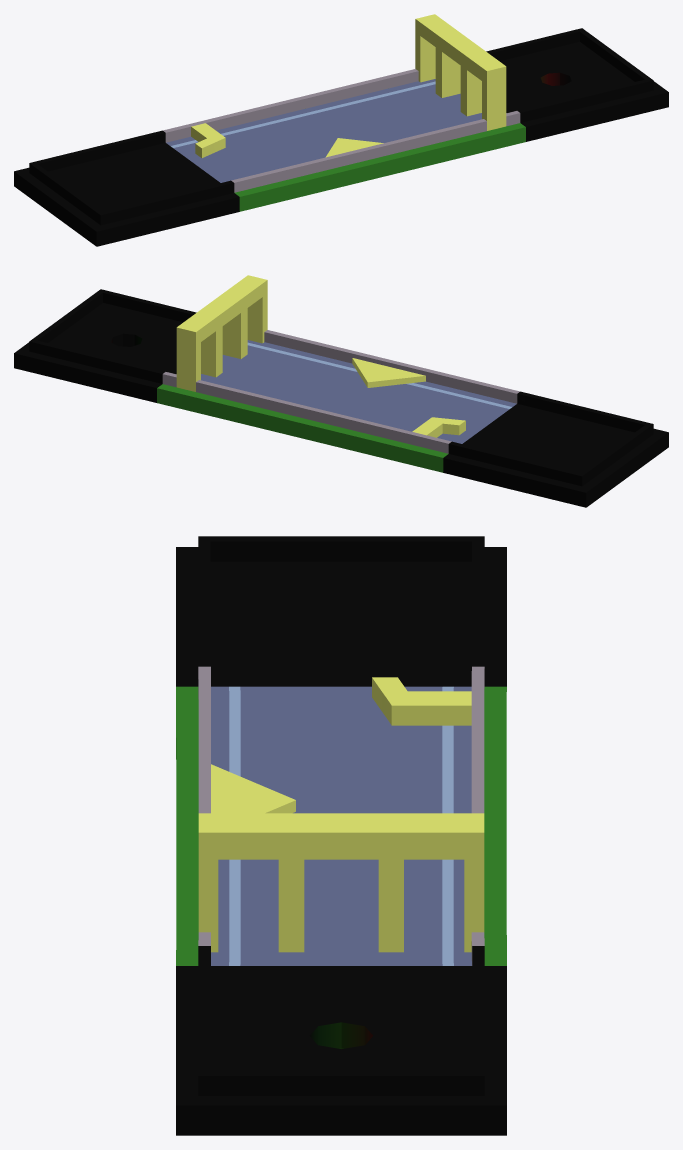
The model's file is Pista1Facil.fbx.
3 renders of one model, top to bottom at view 1: azimuth 30°, elevation 25°; view 2: azimuth 150°, elevation 25°; view 3: azimuth 270°, elevation 25°, orthographic. The views are drawn at different scales.
Visible parts, largest first — view 1: Box024.001, Box024.002, Box027, Box022, Object001; view 2: Box024.001, Box024.002, Box027, Object001, Box022; view 3: Box024.001, Box024.002, Box027, Box022, Object001.
Part boxes in pixels (x1,y1,x2,y2): Box024.001: (14,41,668,246); Box024.002: (29,28,653,225); Box027: (415,14,506,130); Box022: (191,123,225,157); Object001: (325,138,383,157); Box024.001: (14,303,668,507); Box024.002: (29,289,653,486); Box027: (176,275,267,391); Object001: (352,358,425,387); Box022: (412,417,465,437); Box024.001: (176,547,506,1135); Box024.002: (198,536,484,1095); Box027: (198,813,484,952); Box022: (372,677,471,725); Object001: (211,764,295,813).
Bounding box in the file's own units: 202 × 25.25 × 50.56.
